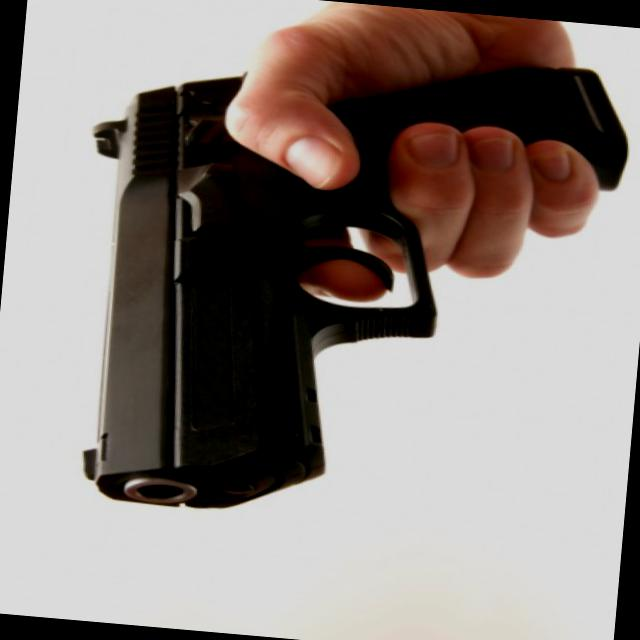handgun: (67, 21, 636, 547)
